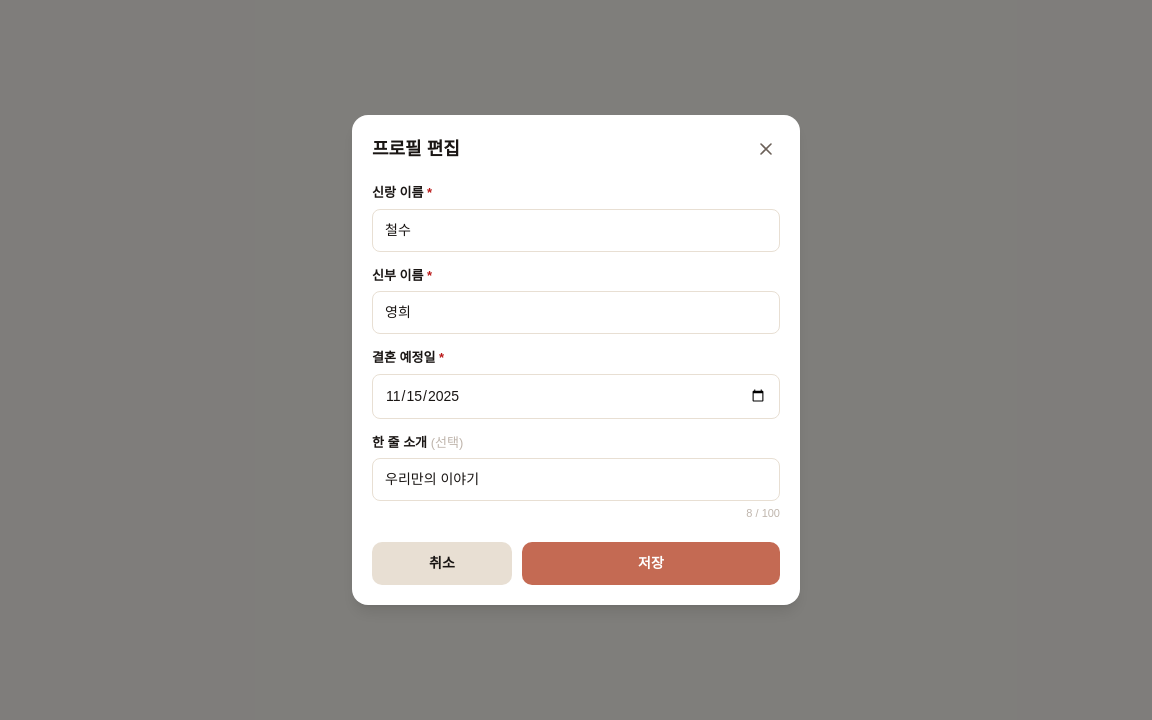
Scenario: CoupleProfileEditModal › 신랑 이름 비우고 저장 → 에러 메시지
The image size is (1152, 720).
Clear the field labelled "신랑 이름 *" at x=576, y=230, box [372,209,780,252]
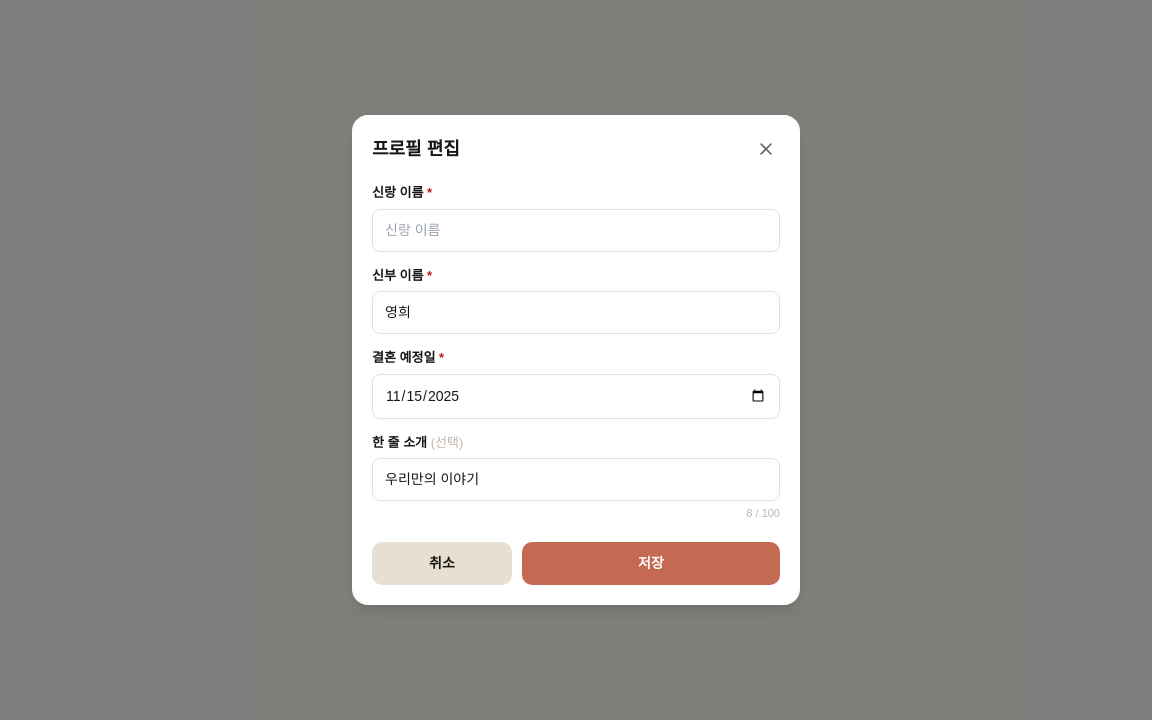
Click the button "저장".
click(651, 563)  # box [522,542,780,585]
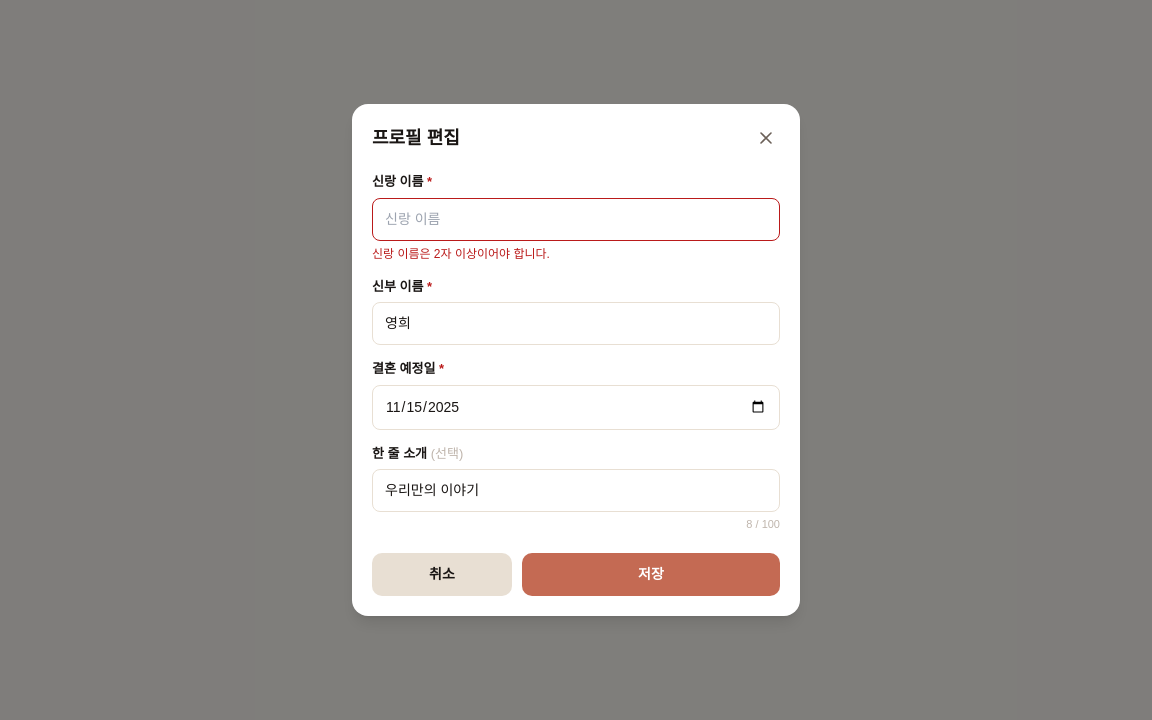
expect the text "신랑 이름은 2자 이상이어야 합니다." is shown: met, box [372,247,550,261]
